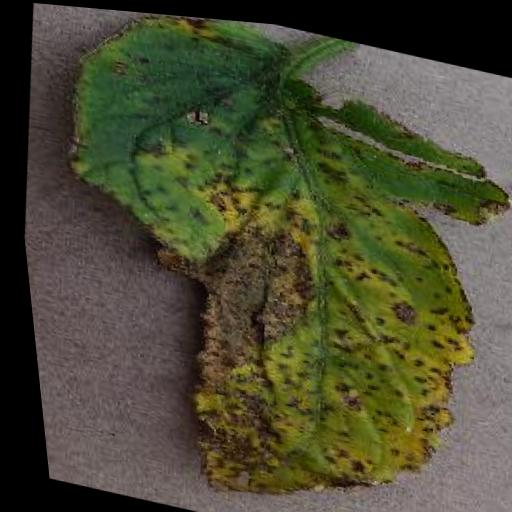Bacterial Spot: (7, 0, 512, 512)
